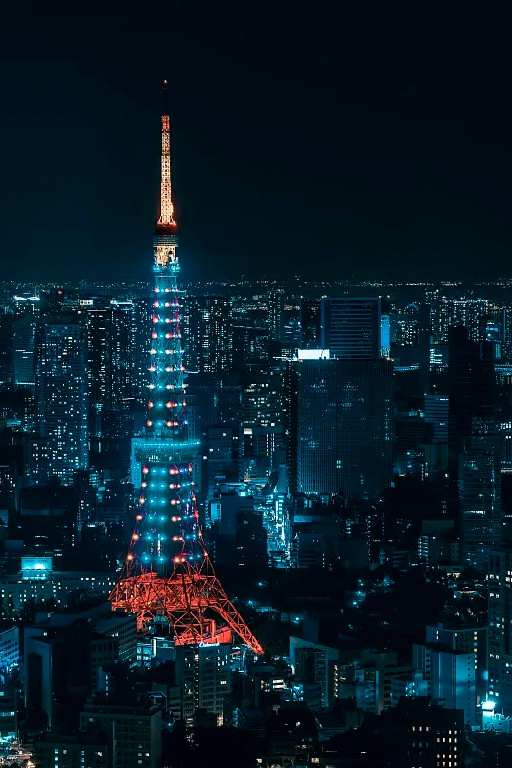Tokyo: (105, 76, 261, 659)
